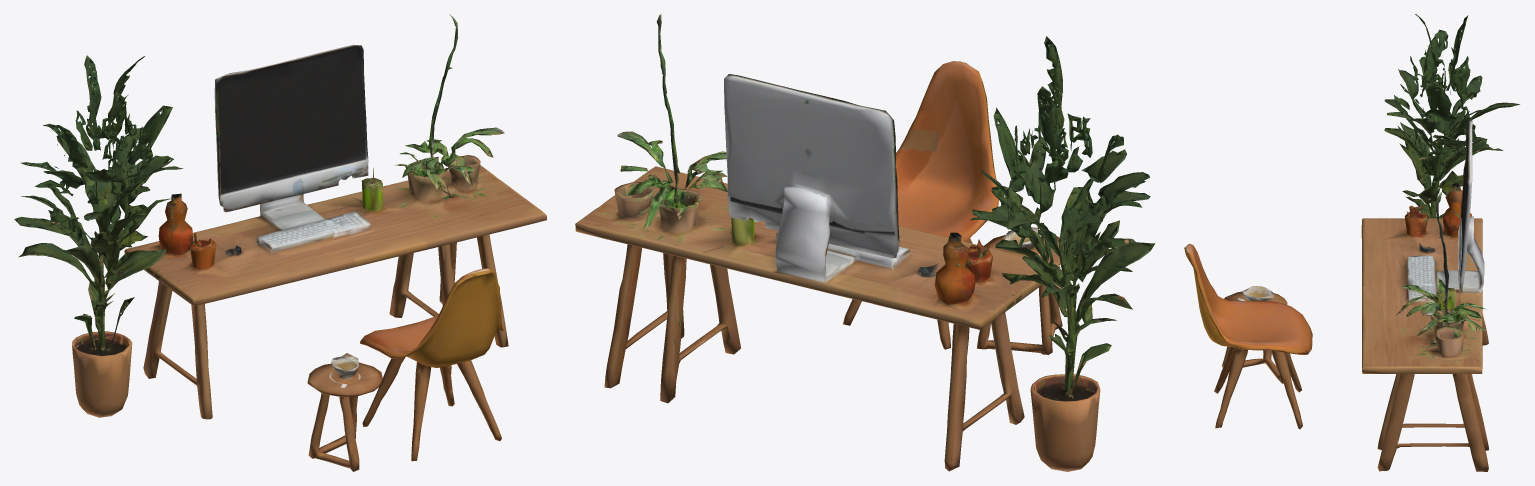
Rendered from no_humans_scenery_p_0531073222_texture.glb.
3 renders of one model, left to right at view 1: azimuth 30°, elevation 25°; view 2: azimuth 150°, elevation 25°; view 3: azimuth 270°, elevation 25°, orthographic. The views are drawn at different scales.
Parts seen in each view (by area): view 1: Object_4; view 2: Object_4; view 3: Object_4.
Part boxes in pixels (x1,y1,x2,y2): Object_4: (14, 14, 546, 471); Object_4: (575, 14, 1154, 471); Object_4: (1184, 14, 1519, 471).
Bounding box in the file's own units: 1.95 × 1.41 × 1.38.
1 material, 1 textured.
